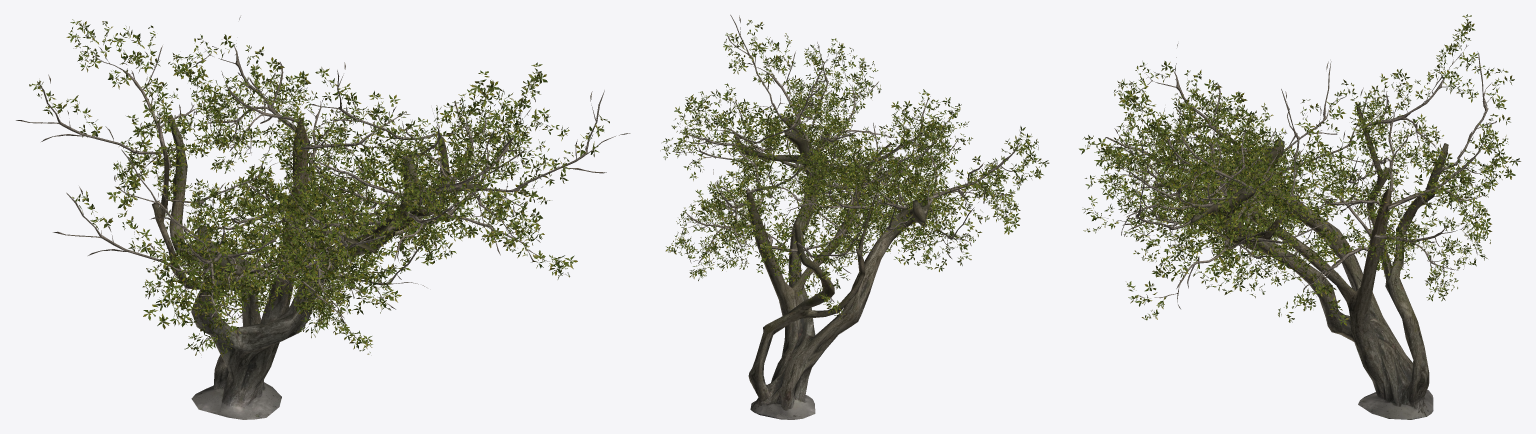
The model's file is peral.glb.
3 renders of one model, left to right at view 1: azimuth 30°, elevation 25°; view 2: azimuth 150°, elevation 25°; view 3: azimuth 270°, elevation 25°, orthographic. The views are drawn at different scales.
Visible parts, largest first — view 1: island_tree_02_LOD0; view 2: island_tree_02_LOD0; view 3: island_tree_02_LOD0.
Part boxes in pixels (left/top/right/bottom): island_tree_02_LOD0: left=16, top=16, right=630, bottom=419; island_tree_02_LOD0: left=660, top=14, right=1049, bottom=419; island_tree_02_LOD0: left=1079, top=14, right=1520, bottom=419.
Size of the model in its own units: 4.21 by 3.4 by 4.07.
Materials: 3 (3 with a texture image).
